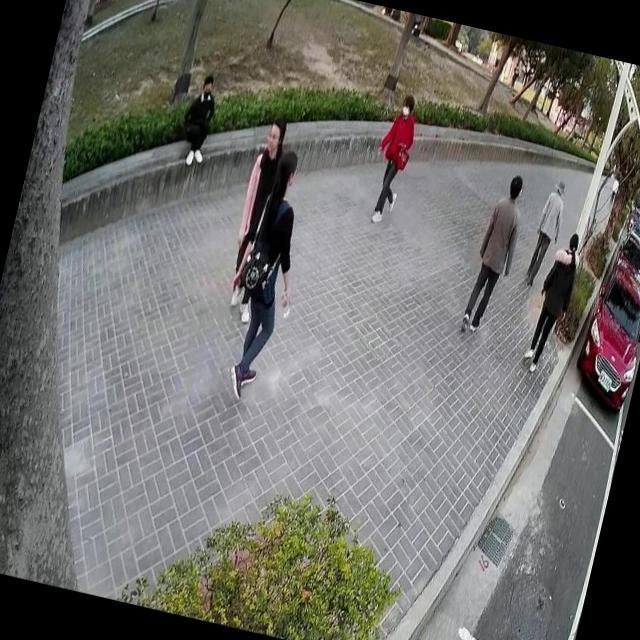person: (204, 136, 328, 412), (214, 107, 298, 329), (454, 162, 534, 343), (517, 223, 588, 379), (358, 82, 424, 228), (516, 168, 576, 296), (172, 70, 224, 170)
